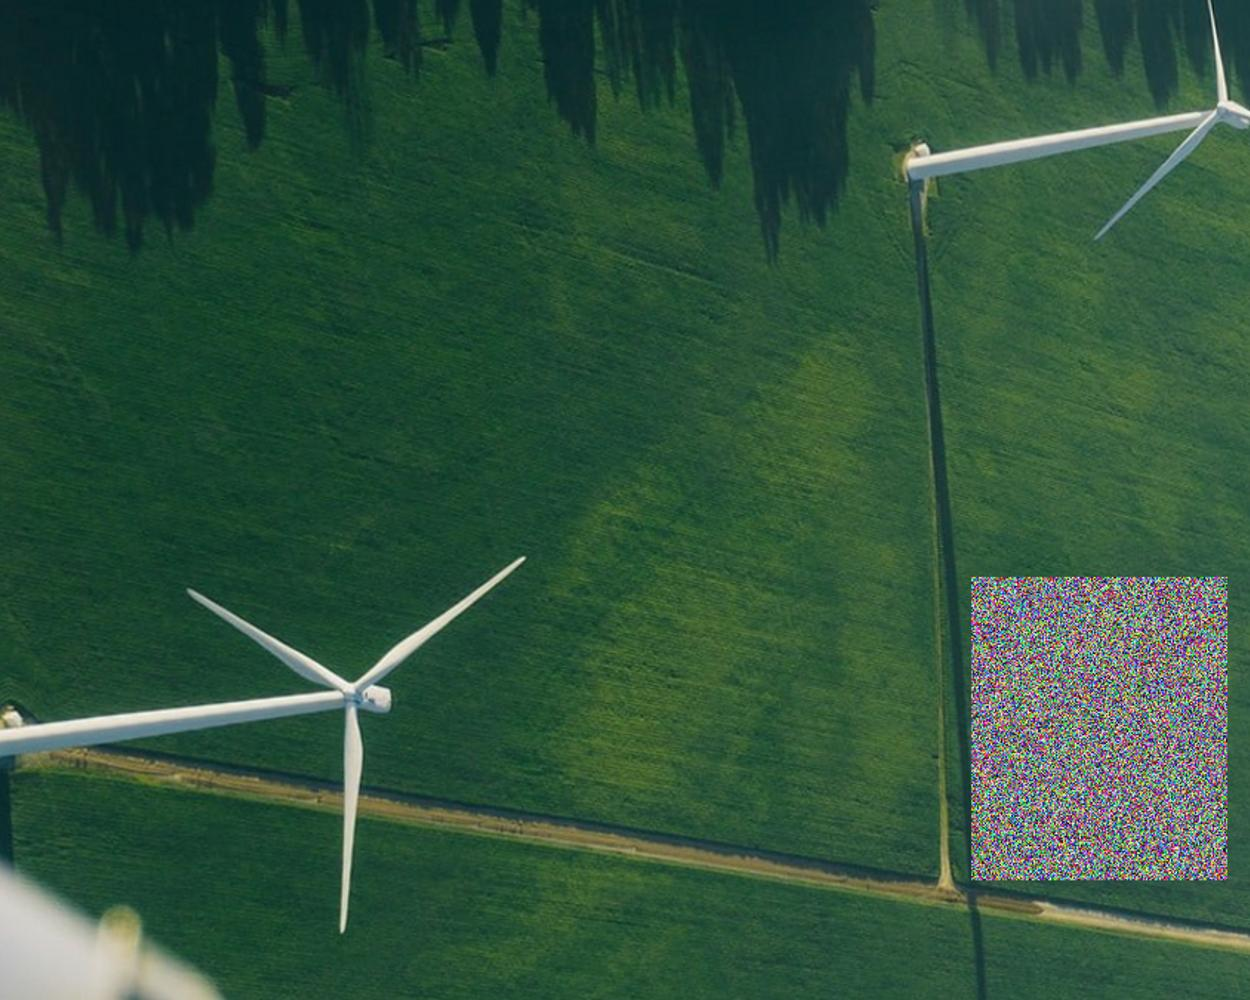working: (179, 553, 547, 956)
